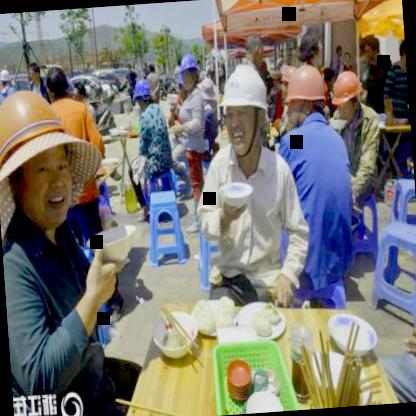helmet: (0, 89, 73, 229), (215, 63, 272, 160), (283, 60, 330, 129), (330, 68, 367, 124), (178, 51, 202, 92), (132, 77, 156, 110), (0, 66, 13, 91)
